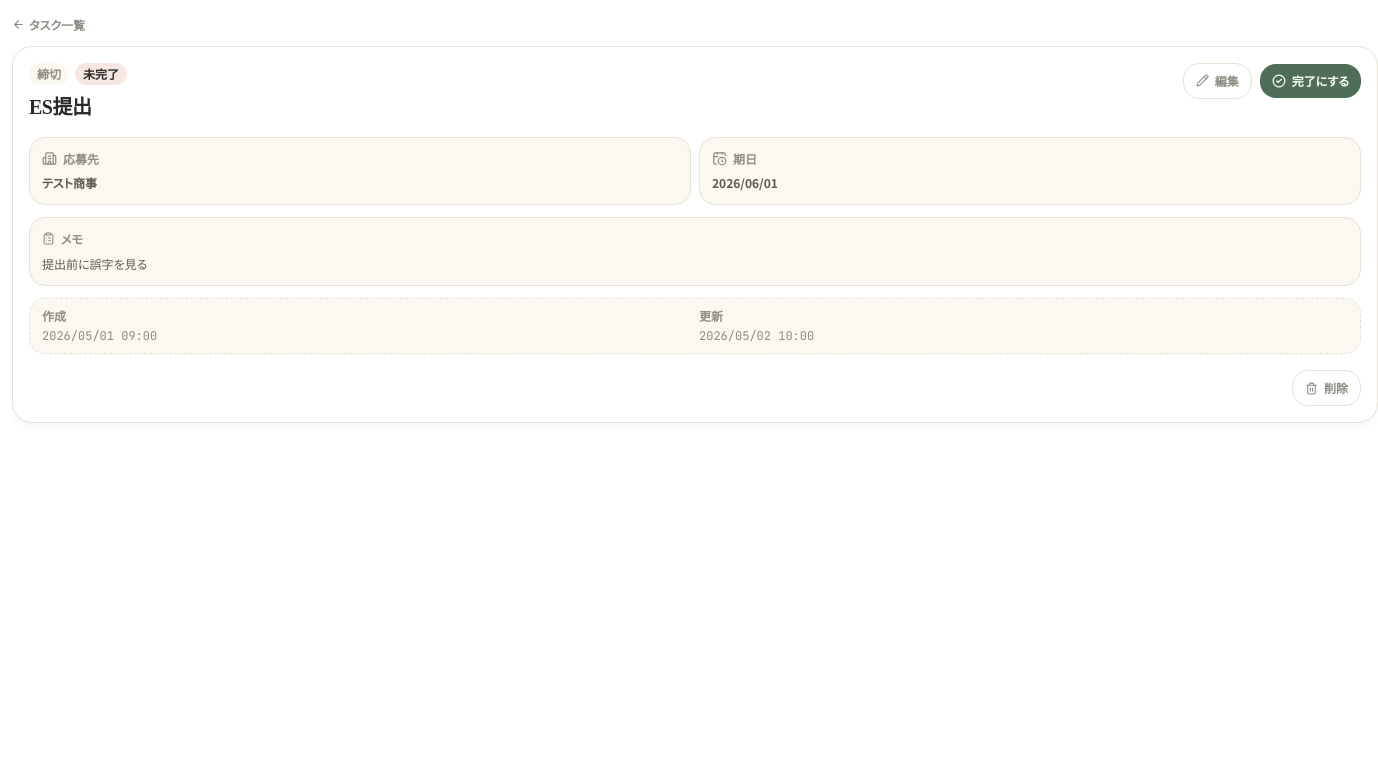
Scenario: TaskDetailView › 編集ボタンでフォームに切り替わり、保存で updateTaskAction を呼んで表示に戻る
Click the button "編集".
click(1217, 80)  # box [1183, 62, 1252, 98]
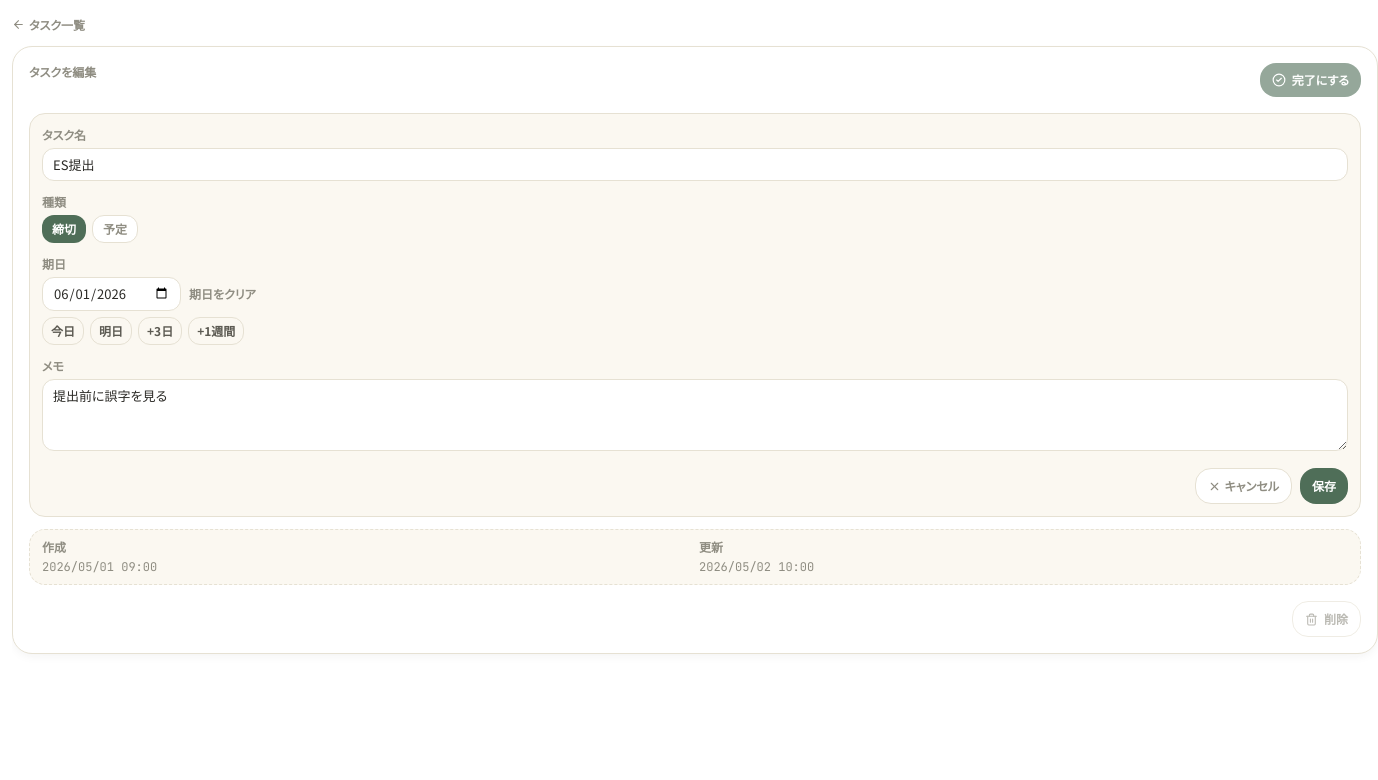
Replace the text in the field labelled "タスク名" with "ES提出（修正）" at x=695, y=164, box [42, 148, 1348, 181]
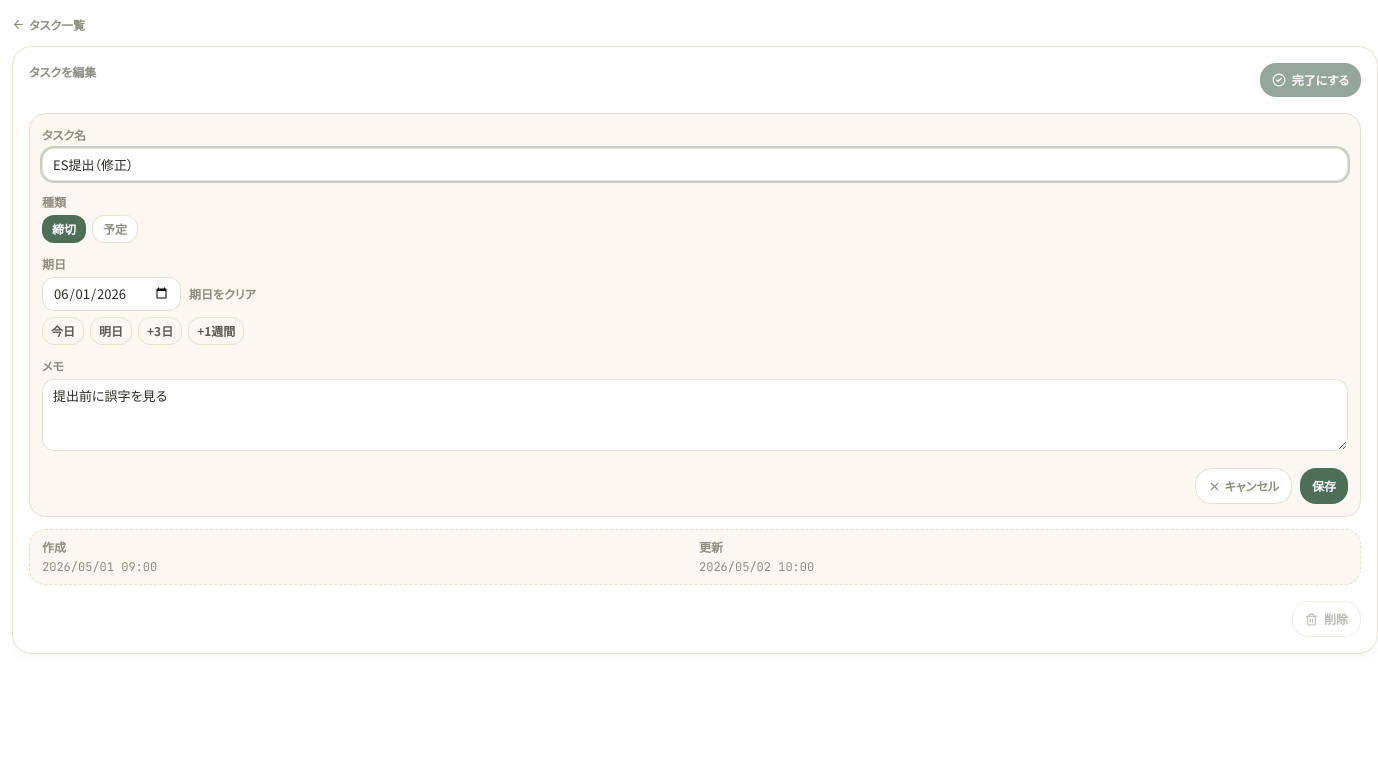
Replace the text in the text box labelled "メモ" with "誤字を直した" at x=695, y=415, box [42, 378, 1348, 451]
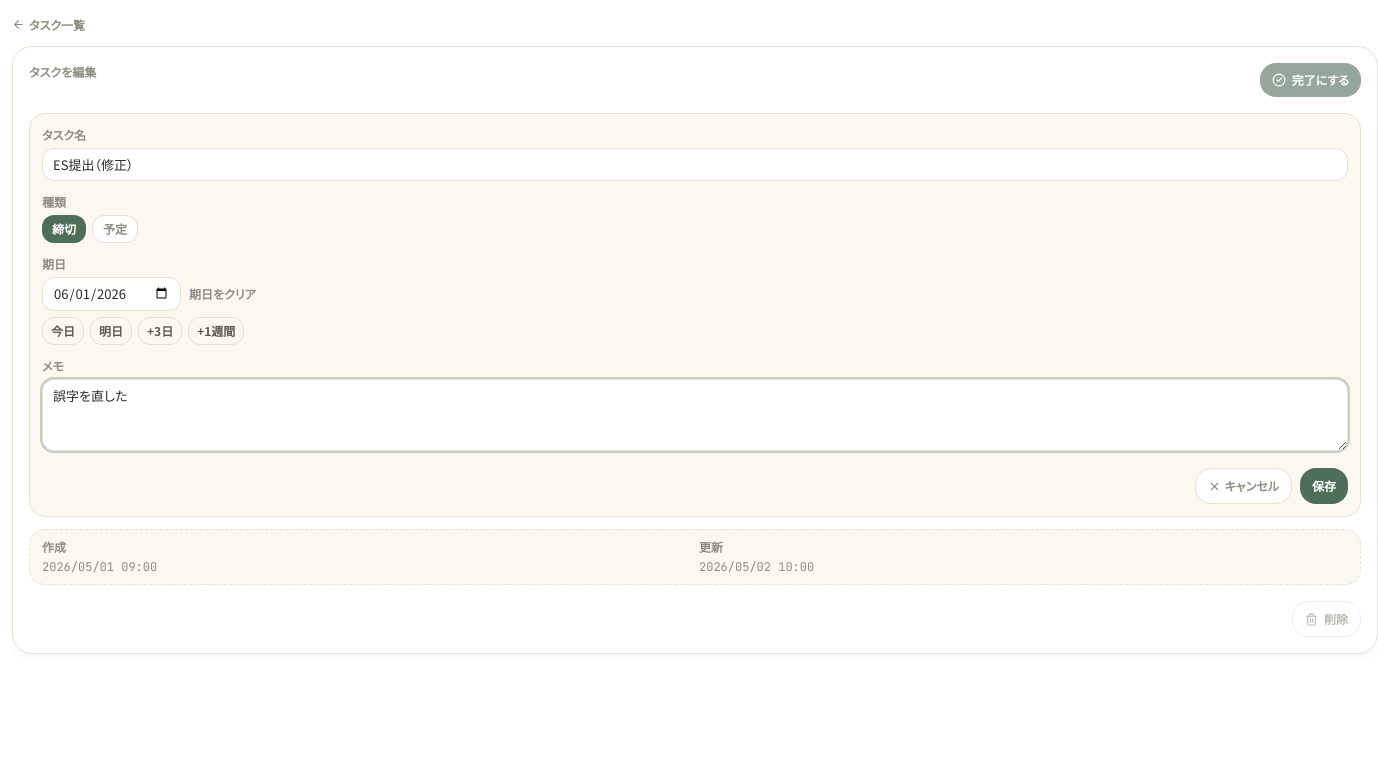
Click the button "予定".
click(115, 229)  # box [92, 215, 138, 243]
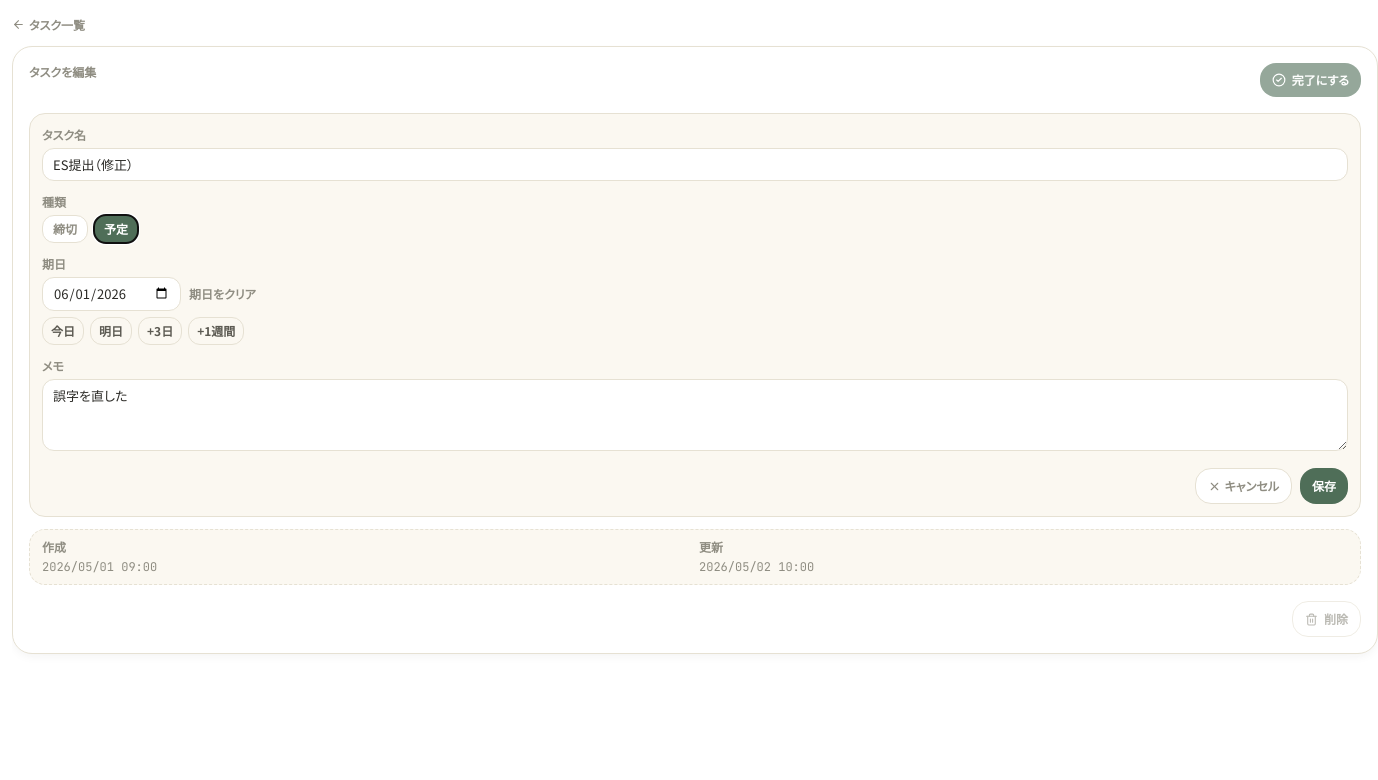
Click the button "保存".
click(1324, 486)  # box [1300, 468, 1348, 504]
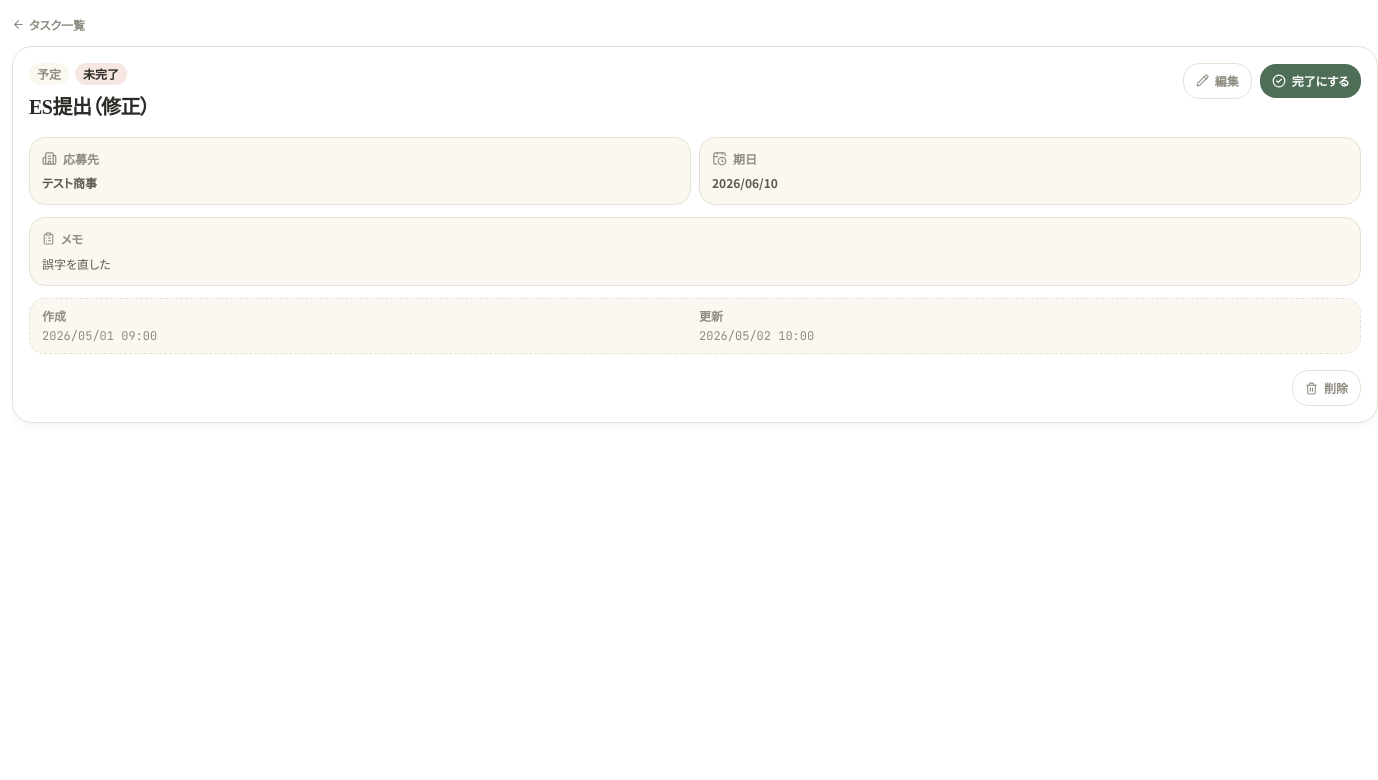
expect the text "予定" is shown: met, box [29, 62, 69, 84]
expect the heading "ES提出（修正）" is shown: met, box [29, 96, 150, 118]
expect the text "誤字を直した" is shown: met, box [42, 254, 111, 272]
